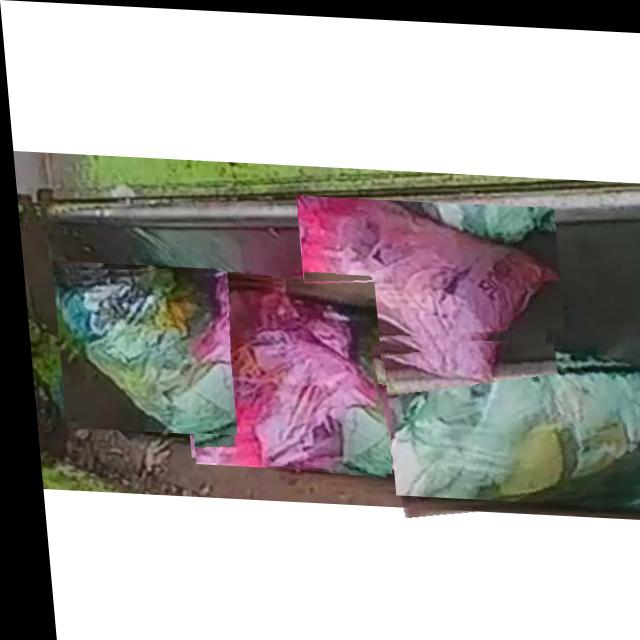general_trashbag: (384, 335, 640, 496), (54, 270, 228, 432)
other_trashbag: (298, 195, 551, 364), (182, 279, 377, 463)
